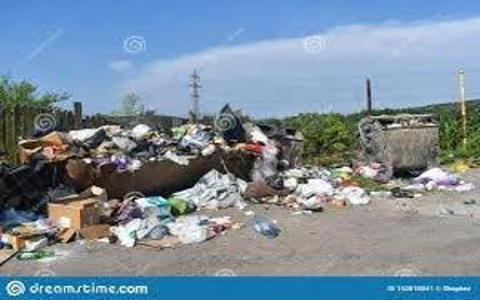overflowing garbage: (338, 105, 447, 225), (223, 117, 319, 227)
